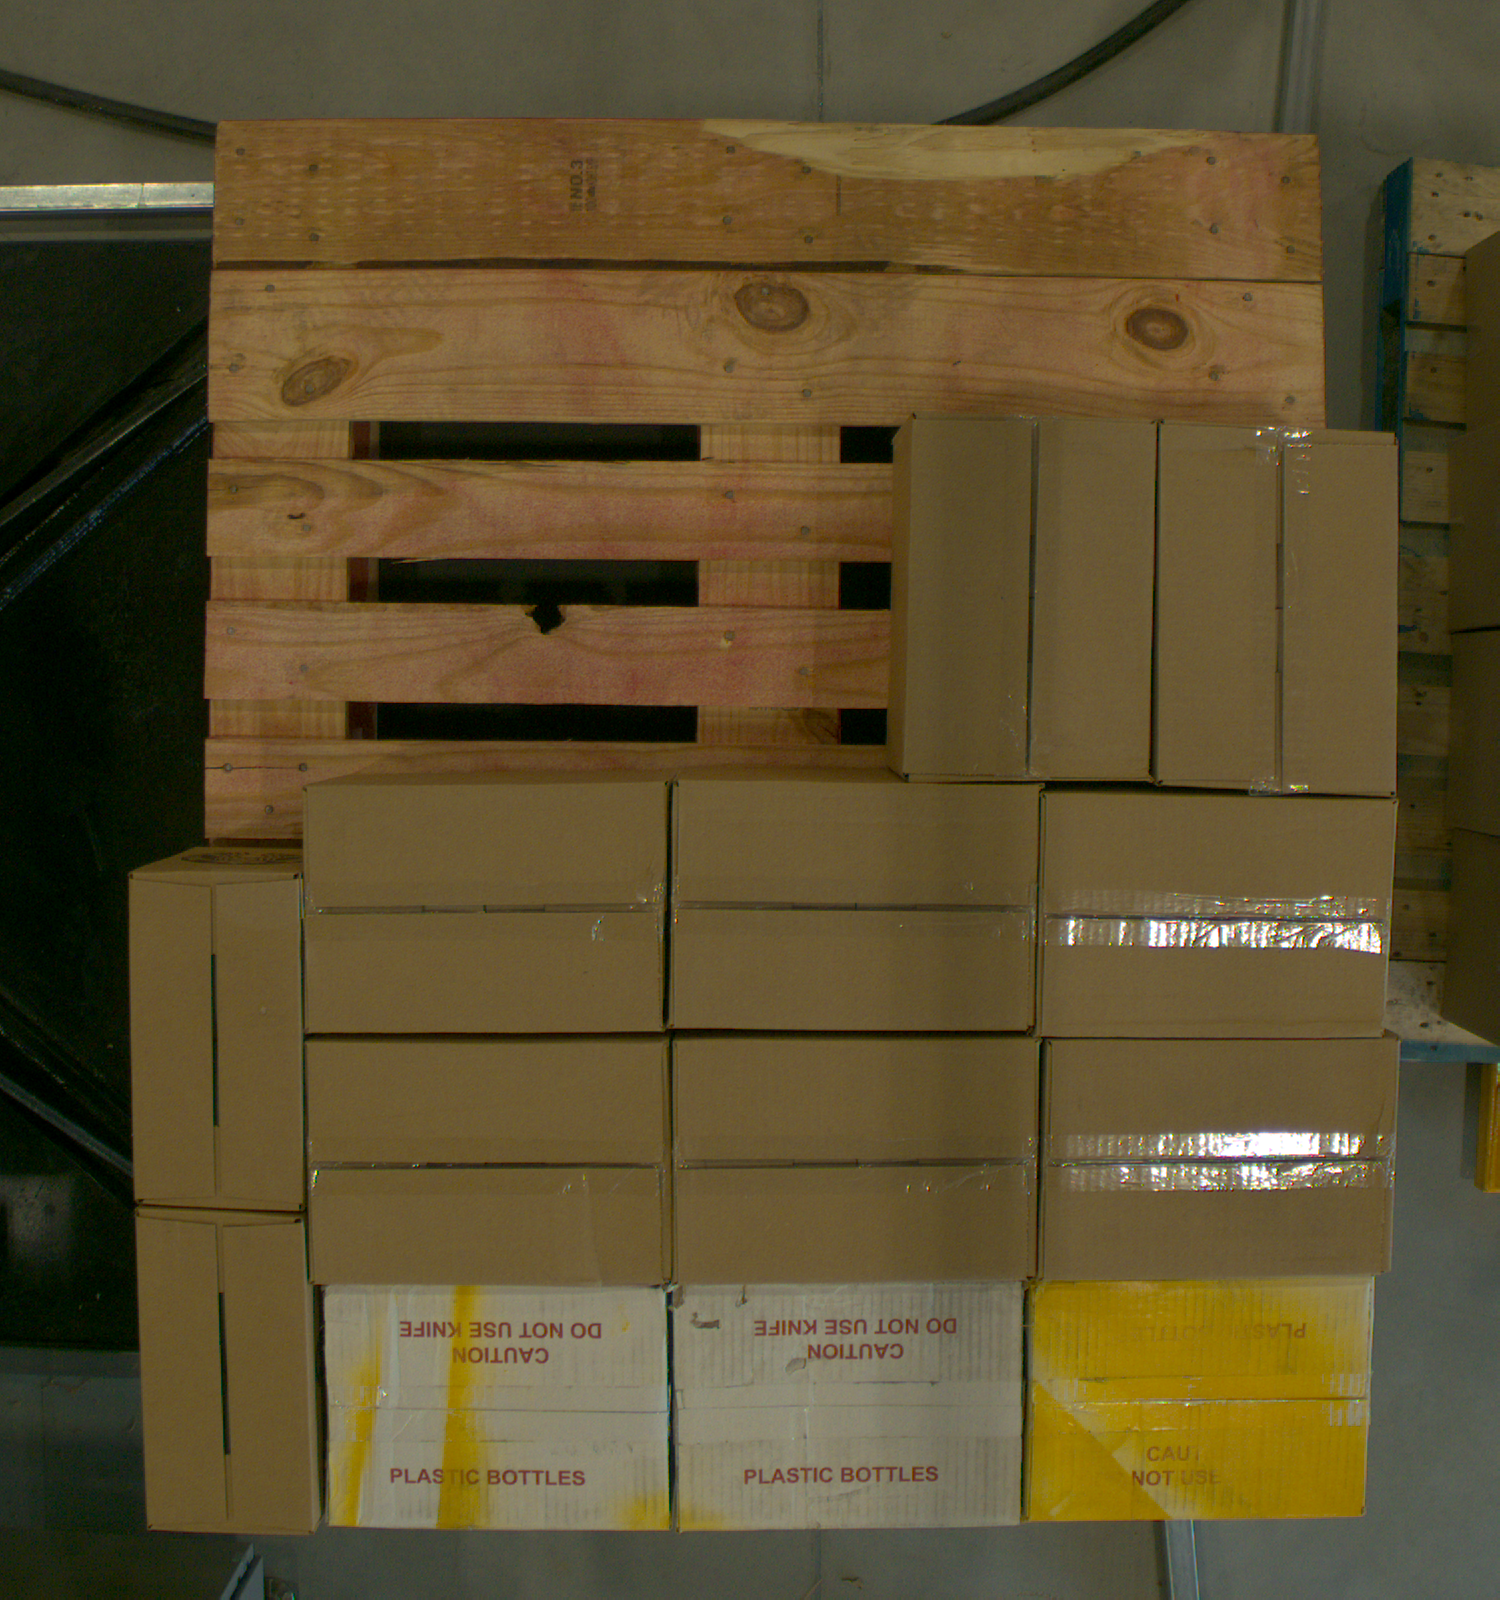box top: (846, 476, 1215, 722), (672, 782, 1038, 1030), (734, 978, 977, 1343), (364, 727, 608, 1090), (1036, 794, 1398, 1038), (1159, 427, 1398, 791), (725, 1232, 970, 1583), (312, 1045, 668, 1283), (1029, 1279, 1375, 1521), (1045, 1040, 1396, 1279), (378, 1236, 617, 1579), (137, 1208, 314, 1537), (130, 874, 302, 1210)
